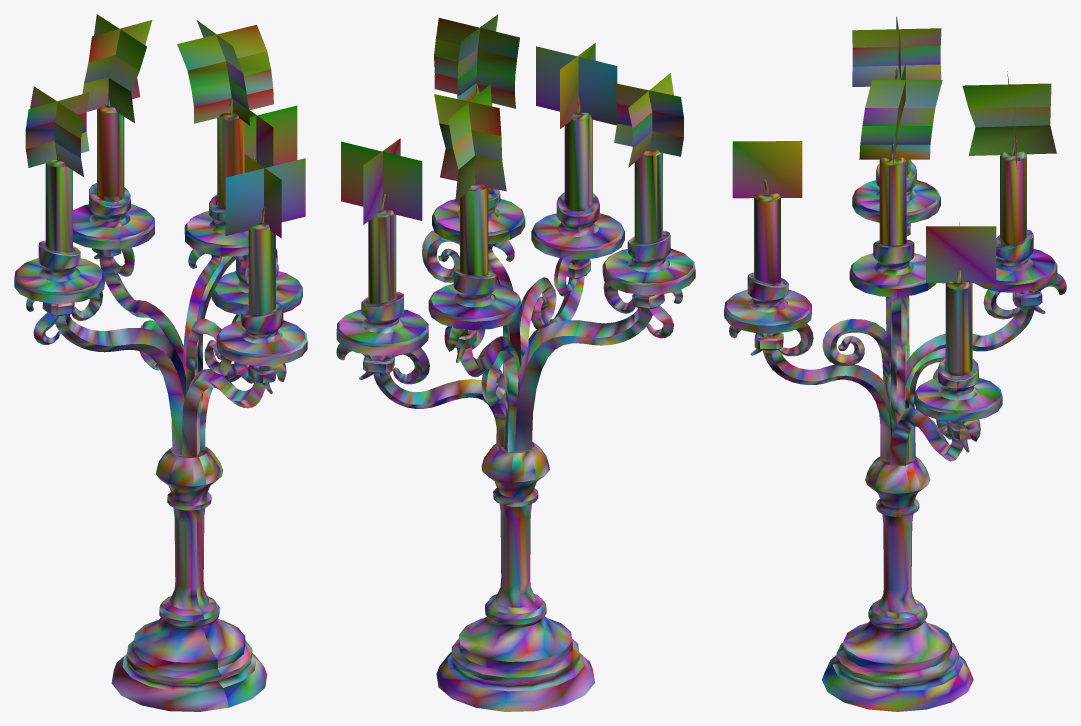
Rendered from Candlestick.fbx.
3 renders of one model, left to right at view 1: azimuth 30°, elevation 25°; view 2: azimuth 150°, elevation 25°; view 3: azimuth 270°, elevation 25°, orthographic. The views are drawn at different scales.
Visible parts, largest first — view 1: Candlestick; view 2: Candlestick; view 3: Candlestick.
Part boxes in pixels (x1,y1,x2,y2): Candlestick: (14, 14, 307, 711); Candlestick: (336, 14, 695, 711); Candlestick: (724, 16, 1066, 711).
Bounding box in the file's own units: 183 × 358 × 181.
